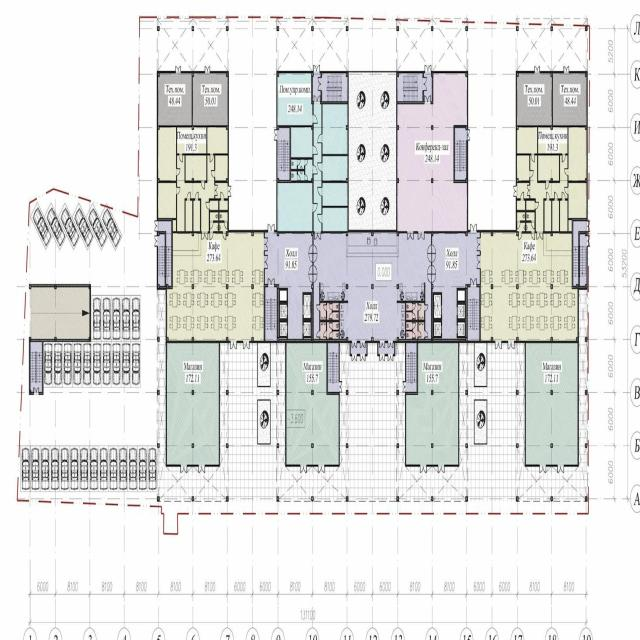Bathrooms: (419, 322, 424, 339), (321, 323, 326, 339), (419, 303, 424, 319), (321, 303, 326, 319), (219, 212, 228, 220), (526, 212, 534, 220), (526, 223, 534, 231), (517, 223, 525, 231), (210, 212, 218, 220), (220, 223, 228, 231), (210, 223, 218, 231), (291, 159, 297, 169), (298, 171, 304, 181), (517, 213, 525, 220), (291, 171, 297, 180), (298, 160, 304, 169), (333, 312, 339, 320), (333, 322, 339, 330), (333, 331, 339, 339), (333, 303, 339, 310), (406, 312, 412, 319), (406, 304, 412, 310), (406, 323, 412, 329), (406, 332, 412, 338)
Corridors: (157, 18, 588, 230), (157, 290, 587, 502), (265, 233, 480, 341), (348, 72, 395, 230), (177, 155, 214, 231), (531, 156, 567, 231), (314, 105, 321, 231), (424, 74, 432, 101), (560, 201, 567, 231), (313, 73, 320, 101), (215, 184, 228, 198), (553, 201, 559, 231), (186, 201, 192, 230), (545, 202, 551, 231), (194, 202, 200, 231), (517, 184, 529, 198), (351, 343, 366, 354), (305, 160, 312, 180), (379, 344, 394, 353), (327, 322, 332, 339), (413, 303, 418, 320), (412, 322, 417, 339), (327, 303, 332, 319), (517, 201, 525, 210), (526, 201, 534, 210), (210, 201, 218, 210), (220, 201, 228, 209), (569, 221, 572, 231), (173, 221, 176, 230)
Doors: (267, 277, 275, 288), (539, 464, 547, 475), (424, 63, 432, 74), (267, 223, 275, 233), (476, 254, 481, 270), (507, 340, 515, 350), (318, 464, 325, 475), (314, 230, 321, 241), (418, 230, 425, 241), (438, 464, 445, 475), (476, 237, 481, 252), (317, 76, 322, 91), (201, 231, 208, 241), (264, 255, 269, 269), (230, 340, 237, 350), (243, 340, 250, 350), (300, 464, 307, 474), (407, 231, 414, 241), (470, 277, 477, 287), (495, 340, 502, 350), (420, 464, 427, 474), (557, 465, 564, 475), (536, 231, 543, 241), (470, 223, 477, 233), (424, 94, 431, 104), (313, 63, 320, 73), (314, 94, 321, 104), (198, 464, 205, 474), (180, 464, 187, 474), (317, 133, 323, 144), (317, 161, 323, 172), (317, 186, 323, 197), (317, 213, 323, 224), (312, 164, 318, 175), (227, 185, 232, 198), (586, 234, 591, 247), (512, 185, 517, 198), (154, 235, 159, 247), (264, 237, 268, 252), (312, 114, 318, 124), (312, 145, 318, 155), (423, 77, 427, 91), (313, 202, 318, 213), (175, 65, 181, 74), (379, 340, 385, 349), (563, 64, 569, 73), (534, 65, 540, 74), (214, 184, 218, 197), (402, 380, 406, 393), (176, 186, 181, 196), (224, 220, 229, 230), (186, 191, 191, 201), (535, 201, 540, 211), (554, 191, 559, 201), (561, 191, 566, 201), (154, 220, 158, 232), (339, 381, 343, 393), (360, 341, 366, 349), (352, 354, 358, 362), (388, 341, 394, 349), (379, 354, 385, 362), (388, 354, 394, 362), (587, 220, 591, 232), (526, 184, 530, 196), (466, 129, 470, 141), (205, 65, 210, 74), (205, 201, 210, 210), (209, 231, 214, 240), (352, 340, 357, 349), (328, 321, 333, 330), (564, 168, 569, 177), (201, 180, 205, 191), (531, 230, 535, 241), (562, 153, 566, 164), (545, 180, 549, 191), (179, 153, 183, 163), (176, 168, 181, 176), (211, 170, 216, 178), (220, 191, 224, 201), (222, 231, 226, 241), (195, 191, 199, 201), (316, 330, 321, 338), (328, 303, 333, 311), (417, 304, 422, 312), (424, 304, 429, 312), (424, 330, 429, 338), (518, 231, 522, 241), (531, 153, 535, 163), (546, 191, 550, 201), (529, 170, 534, 178), (520, 191, 524, 201), (531, 220, 535, 230), (296, 173, 301, 181), (210, 154, 214, 163), (517, 220, 521, 229), (274, 129, 277, 141), (316, 304, 321, 311), (210, 221, 214, 229), (323, 330, 327, 338), (323, 304, 327, 312), (329, 312, 333, 320), (412, 322, 416, 330), (412, 312, 416, 320), (412, 303, 416, 311), (418, 330, 422, 338), (564, 187, 568, 195), (329, 331, 333, 338), (412, 331, 416, 338), (304, 159, 308, 166), (297, 160, 301, 166), (304, 174, 308, 180), (302, 306, 304, 314), (456, 308, 458, 315), (441, 305, 442, 314), (303, 326, 304, 334), (287, 307, 288, 314), (287, 326, 288, 333), (441, 326, 442, 333), (457, 326, 458, 333)
LBwalls: (348, 72, 424, 232), (157, 70, 176, 220), (569, 71, 588, 221), (166, 289, 181, 467), (564, 289, 579, 467), (276, 71, 314, 129), (516, 71, 535, 185), (432, 71, 468, 125), (205, 342, 220, 467), (405, 342, 420, 467), (444, 343, 459, 468), (285, 343, 300, 467), (525, 342, 539, 467), (540, 71, 564, 126), (572, 218, 588, 289), (325, 395, 340, 467), (158, 218, 173, 286), (454, 125, 468, 183), (326, 342, 340, 395), (157, 246, 173, 289), (320, 71, 425, 77), (157, 231, 166, 287), (578, 231, 587, 286), (320, 90, 347, 104), (278, 339, 346, 343), (477, 284, 481, 341), (275, 284, 279, 341), (264, 284, 268, 341), (160, 125, 228, 128), (399, 339, 466, 342), (467, 183, 470, 233), (424, 231, 467, 234), (476, 230, 517, 233), (228, 230, 268, 233), (167, 340, 226, 342), (228, 76, 229, 185), (277, 231, 313, 234), (312, 289, 314, 339), (431, 289, 433, 339), (466, 289, 468, 337), (276, 140, 277, 233), (543, 231, 572, 234), (173, 231, 202, 234), (277, 181, 314, 183), (322, 180, 346, 183), (278, 125, 311, 127), (185, 180, 201, 184), (553, 126, 585, 128), (519, 125, 550, 127), (210, 71, 229, 74), (568, 180, 586, 183), (431, 77, 433, 104), (321, 231, 348, 233), (290, 127, 291, 180), (181, 71, 205, 73), (192, 77, 193, 125), (160, 180, 176, 183), (214, 180, 228, 183), (339, 343, 340, 382), (187, 464, 199, 467), (517, 180, 529, 183), (546, 464, 557, 467), (427, 464, 438, 467), (307, 464, 318, 467), (228, 197, 229, 230), (213, 231, 223, 234), (396, 73, 397, 101), (399, 231, 407, 234), (312, 236, 314, 246), (157, 26, 160, 31), (191, 26, 194, 31), (226, 26, 229, 31), (276, 26, 279, 31), (277, 72, 280, 77), (226, 72, 229, 77), (157, 337, 160, 342), (157, 390, 160, 395), (157, 443, 160, 448), (311, 390, 314, 395), (311, 443, 314, 448), (311, 496, 314, 501), (431, 496, 434, 501), (431, 390, 434, 395), (431, 284, 434, 289), (251, 284, 254, 289), (465, 390, 468, 395), (516, 390, 519, 395), (465, 443, 468, 448), (516, 496, 519, 501), (585, 497, 588, 502), (550, 390, 553, 395), (516, 443, 519, 448), (550, 337, 553, 342), (516, 337, 519, 342), (516, 284, 519, 289), (550, 232, 553, 237), (413, 231, 418, 234), (311, 284, 314, 289), (277, 126, 280, 130), (277, 232, 280, 236), (226, 389, 228, 395), (277, 390, 279, 396), (397, 336, 399, 342), (311, 232, 314, 236), (371, 232, 374, 236), (431, 233, 434, 237), (576, 336, 578, 342), (226, 126, 228, 131), (192, 284, 194, 289), (192, 337, 194, 342), (192, 390, 194, 395), (192, 443, 194, 448), (226, 443, 228, 448), (226, 337, 228, 342), (252, 337, 254, 342), (157, 497, 159, 502), (192, 497, 194, 502), (226, 496, 228, 501), (277, 496, 279, 501), (277, 443, 279, 448), (346, 390, 348, 395), (346, 443, 348, 448), (346, 497, 348, 502), (397, 497, 399, 502), (431, 443, 433, 448), (397, 443, 399, 448), (397, 390, 399, 395), (371, 337, 373, 342), (346, 337, 348, 342), (346, 284, 348, 289), (371, 284, 373, 289), (397, 284, 399, 289), (226, 284, 228, 289), (466, 284, 468, 289), (466, 337, 468, 342), (491, 337, 493, 342), (491, 284, 493, 289), (466, 496, 468, 501), (551, 497, 553, 502), (585, 443, 587, 448), (585, 390, 587, 395), (551, 443, 553, 448), (585, 337, 587, 342), (551, 284, 553, 289), (346, 178, 348, 183), (346, 125, 348, 130), (346, 73, 348, 78), (397, 72, 399, 77), (397, 125, 399, 130), (397, 178, 399, 183), (431, 178, 433, 183), (431, 125, 433, 130), (277, 179, 280, 182), (226, 233, 229, 236), (431, 236, 432, 245), (550, 73, 553, 76), (192, 126, 194, 130), (226, 178, 228, 182), (252, 232, 254, 236), (192, 233, 194, 237), (346, 232, 348, 236), (397, 232, 399, 236), (466, 232, 468, 236), (491, 232, 493, 236), (516, 232, 518, 236), (551, 177, 553, 181), (551, 177, 553, 181), (551, 126, 553, 130), (192, 73, 194, 77), (311, 126, 313, 130), (311, 178, 313, 182), (465, 73, 467, 77), (468, 284, 470, 287), (192, 178, 194, 181), (517, 178, 519, 181), (205, 180, 207, 183), (431, 73, 433, 76)
Offices: (397, 73, 467, 231), (167, 233, 264, 341), (481, 232, 577, 341), (167, 343, 219, 465), (287, 343, 339, 464), (406, 343, 458, 464), (526, 343, 577, 464), (158, 73, 192, 125), (193, 74, 227, 125), (278, 74, 312, 125), (553, 73, 586, 125), (518, 74, 551, 125), (277, 183, 312, 231), (323, 104, 347, 154), (569, 128, 587, 180), (158, 128, 176, 180), (539, 128, 567, 153), (177, 128, 206, 152), (291, 128, 313, 157), (569, 183, 587, 218), (158, 184, 176, 218), (323, 157, 348, 180), (322, 183, 347, 205), (323, 209, 348, 231), (538, 156, 559, 180), (208, 128, 228, 153), (186, 155, 206, 180), (517, 128, 537, 153), (215, 156, 228, 180), (517, 155, 529, 180)
Stairs: (573, 221, 587, 286), (158, 221, 171, 286), (322, 73, 347, 101), (397, 73, 422, 101), (265, 287, 277, 341), (278, 128, 290, 180), (468, 288, 479, 340), (455, 128, 466, 180), (406, 343, 417, 392), (328, 343, 339, 392), (158, 234, 165, 286), (580, 234, 587, 286)
Walls: (397, 282, 425, 339), (535, 127, 562, 184), (182, 127, 210, 180), (319, 303, 340, 339), (208, 196, 228, 233), (517, 196, 536, 234), (319, 282, 348, 305), (544, 234, 571, 257), (173, 234, 201, 256), (321, 143, 348, 163), (321, 196, 348, 214), (279, 288, 288, 339), (457, 288, 466, 339), (549, 198, 562, 232), (303, 292, 312, 339), (433, 292, 442, 339), (543, 198, 551, 232), (565, 194, 572, 231), (213, 153, 228, 170), (517, 153, 531, 171), (365, 341, 380, 356), (291, 156, 314, 165), (514, 340, 578, 343), (190, 198, 195, 231), (565, 127, 569, 168), (516, 198, 521, 230), (173, 196, 177, 232), (291, 165, 305, 175), (176, 128, 179, 168), (184, 198, 187, 231), (199, 198, 201, 231), (348, 341, 352, 356), (393, 341, 397, 356), (321, 104, 323, 134), (468, 341, 495, 343), (254, 341, 279, 343), (312, 183, 314, 204), (405, 343, 406, 381), (313, 123, 314, 145), (312, 104, 314, 114), (312, 212, 313, 231), (480, 269, 481, 285), (264, 269, 265, 285), (321, 172, 322, 187), (312, 174, 314, 180), (502, 341, 508, 343), (357, 353, 360, 357), (237, 341, 243, 343), (224, 198, 228, 201), (176, 176, 177, 187), (567, 177, 568, 187), (321, 223, 322, 231), (529, 178, 530, 185), (385, 341, 388, 343), (357, 341, 360, 343), (385, 354, 388, 356), (480, 233, 481, 238), (264, 232, 265, 237), (535, 231, 537, 233), (228, 341, 230, 343), (264, 251, 265, 255), (313, 231, 315, 233), (249, 341, 252, 342), (214, 177, 215, 180), (319, 337, 320, 339), (326, 337, 327, 339), (332, 338, 333, 339)
